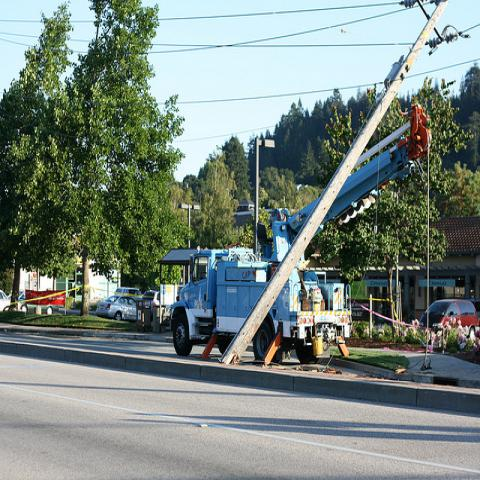car: (419, 299, 480, 339), (8, 290, 59, 314), (95, 295, 136, 322), (138, 289, 160, 316), (1, 290, 11, 311)
truck: (169, 101, 432, 367), (114, 287, 143, 302)
